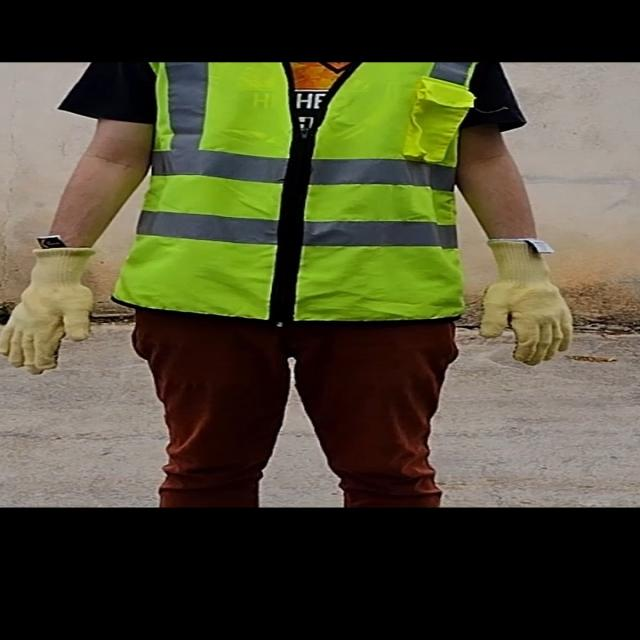glove: (476, 229, 580, 370), (0, 244, 110, 374)
pants: (136, 313, 480, 509)
vest: (111, 61, 495, 316)
